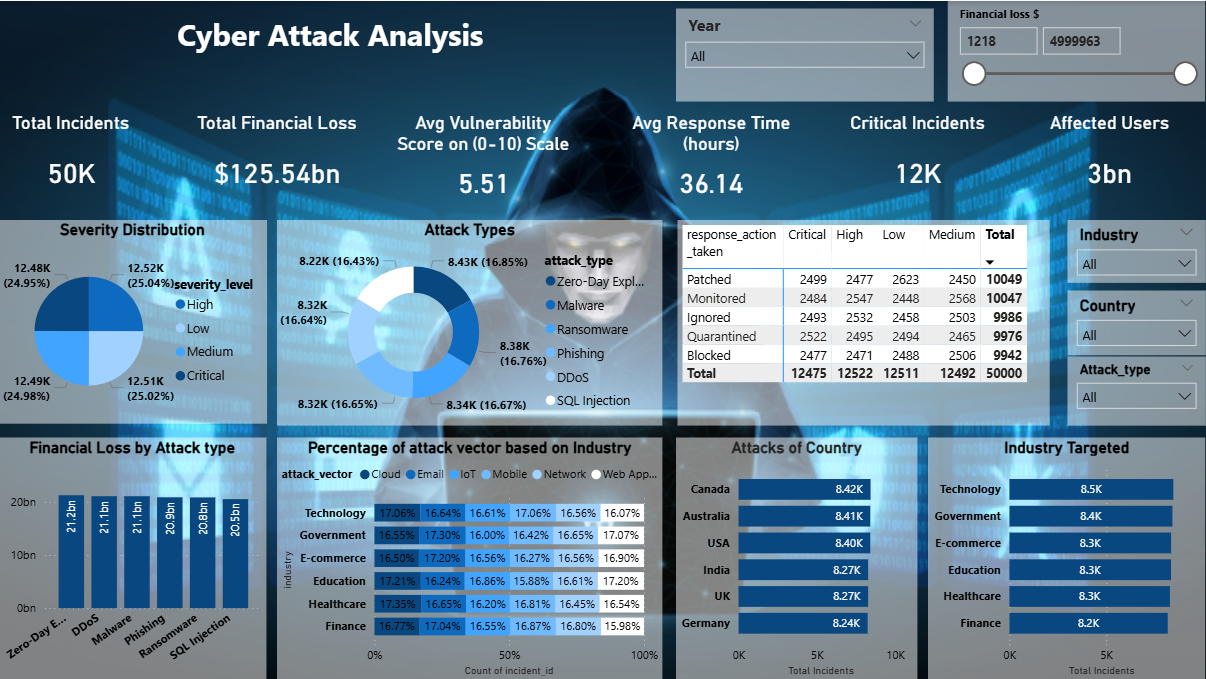

This screenshot's page, from the dashboard's own definition file:
{"tool":"powerbi","page":{"name":"Cyber Attack Report","canvas":[1280,720],"ordinal":0},"visuals":[{"type":"card","title":"Total Incidents","fields":{"Values":["Count(Cybersecurity_Threat_Intelligence_2026.incident_id)"]},"box":[0,117.7,154.3,103.4],"z":0},{"type":"card","title":"Total Financial Loss","fields":{"Values":["Sum(Cybersecurity_Threat_Intelligence_2026.estimated_financial_loss_usd)"]},"box":[197.2,117.7,197.2,103.4],"z":1000},{"type":"card","title":"Avg Vulnerability Score on (0-10) Scale","fields":{"Values":["Avg(Cybersecurity_Threat_Intelligence_2026.vulnerability_score)"]},"box":[415.1,117.7,198.8,103.4],"z":2000},{"type":"card","title":"Avg Response Time (hours)","fields":{"Values":["Avg(Cybersecurity_Threat_Intelligence_2026.response_time_hours)"]},"box":[664.9,117.7,182.9,103.4],"z":3000},{"type":"card","title":"Critical Incidents","fields":{"Values":["Cybersecurity_Threat_Intelligence_2026.Critical Severity Incidents"]},"box":[882.8,117.7,184.5,103.4],"z":4000},{"type":"clusteredBarChart","title":"Attacks of Country","fields":{"Y":["Cybersecurity_Threat_Intelligence_2026.Total Incidents"],"Category":["Cybersecurity_Threat_Intelligence_2026.country"]},"box":[719,462.9,256.1,257.7],"z":6000},{"type":"pivotTable","fields":{"Rows":["Cybersecurity Threats.response_action_taken"],"Columns":["Cybersecurity_Threat_Intelligence_2026.severity_level"],"Values":["Count(Cybersecurity_Threat_Intelligence_2026.incident_id)"]},"box":[720.5,232.2,394.5,217.9],"z":7000},{"type":"donutChart","title":"Attack Types","fields":{"Category":["Cybersecurity_Threat_Intelligence_2026.attack_type"],"Y":["Count(Cybersecurity_Threat_Intelligence_2026.incident_id)"]},"box":[295.9,232.2,408.8,217.9],"z":8000},{"type":"hundredPercentStackedBarChart","title":"Percentage of attack vector based on Industry","fields":{"Y":["Count(Cybersecurity_Threat_Intelligence_2026.incident_id)"],"Series":["Cybersecurity_Threat_Intelligence_2026.attack_vector"],"Category":["Cybersecurity_Threat_Intelligence_2026.industry"]},"box":[295.9,462.9,408.8,257.7],"z":9000},{"type":"slicer","title":"Country","fields":{"Values":["Cybersecurity_Threat_Intelligence_2026.country"]},"box":[1134.1,307,146.3,68.4],"z":10000},{"type":"barChart","title":"Industry Targeted","fields":{"Category":["Cybersecurity_Threat_Intelligence_2026.industry"],"Y":["Cybersecurity_Threat_Intelligence_2026.Total Incidents"]},"box":[986.2,462.9,294.3,257.7],"z":12000},{"type":"columnChart","title":"Financial Loss by Attack type","fields":{"Y":["Cybersecurity_Threat_Intelligence_2026.Total Financial Loss"],"Category":["Cybersecurity_Threat_Intelligence_2026.attack_type"]},"box":[0,462.9,284.7,257.7],"z":13000},{"type":"pieChart","title":"Severity Distribution","fields":{"Category":["Cybersecurity_Threat_Intelligence_2026.severity_level"],"Y":["Cybersecurity_Threat_Intelligence_2026.Total Incidents"]},"box":[0,233,285,215.7],"z":14000},{"type":"slicer","fields":{"Values":["Cybersecurity_Threat_Intelligence_2026.industry"]},"box":[1134.1,232.2,146.3,66.8],"z":14001},{"type":"slicer","fields":{"Values":["Cybersecurity_Threat_Intelligence_2026.attack_type"]},"box":[1134.1,377,146.3,73.2],"z":14002},{"type":"slicer","fields":{"Values":["Cybersecurity_Threat_Intelligence_2026.estimated_financial_loss_usd"]},"box":[1006.9,0,273.6,106.6],"z":14004},{"type":"slicer","fields":{"Values":["Cybersecurity_Threat_Intelligence_2026.incident_year"]},"box":[719,8,273.6,98.6],"z":14005},{"type":"textbox","box":[0,8,704.6,55.7],"z":14006},{"type":"card","title":"Affected Users","fields":{"Values":["Sum(Cybersecurity_Threat_Intelligence_2026.affected_users_count)"]},"box":[1076.8,117.7,203.6,103.4],"z":14007}]}

Visuals, with their boxes in screenshot pixels (x1, y1, x2, y2), scaled from the page's 1280x720 canvas onto the 1206x679 screenshot:
"Total Incidents" card: l=0, t=111, r=145, b=209
"Total Financial Loss" card: l=186, t=111, r=372, b=209
"Avg Vulnerability Score on (0-10) Scale" card: l=391, t=111, r=578, b=209
"Avg Response Time (hours)" card: l=626, t=111, r=799, b=209
"Critical Incidents" card: l=832, t=111, r=1006, b=209
"Attacks of Country" clusteredBarChart: l=677, t=437, r=919, b=678
pivotTable - Cybersecurity Threats.response_action_taken x Cybersecurity_Threat_Intelligence_2026.severity_level: l=679, t=219, r=1051, b=424
"Attack Types" donutChart: l=279, t=219, r=664, b=424
"Percentage of attack vector based on Industry" hundredPercentStackedBarChart: l=279, t=437, r=664, b=678
"Country" slicer: l=1069, t=290, r=1205, b=354
"Industry Targeted" barChart: l=929, t=437, r=1205, b=678
"Financial Loss by Attack type" columnChart: l=0, t=437, r=268, b=678
"Severity Distribution" pieChart: l=0, t=220, r=269, b=423
slicer - Cybersecurity_Threat_Intelligence_2026.industry: l=1069, t=219, r=1205, b=282
slicer - Cybersecurity_Threat_Intelligence_2026.attack_type: l=1069, t=356, r=1205, b=425
slicer - Cybersecurity_Threat_Intelligence_2026.estimated_financial_loss_usd: l=949, t=0, r=1205, b=101
slicer - Cybersecurity_Threat_Intelligence_2026.incident_year: l=677, t=8, r=935, b=101
textbox: l=0, t=8, r=664, b=60
"Affected Users" card: l=1015, t=111, r=1205, b=209
